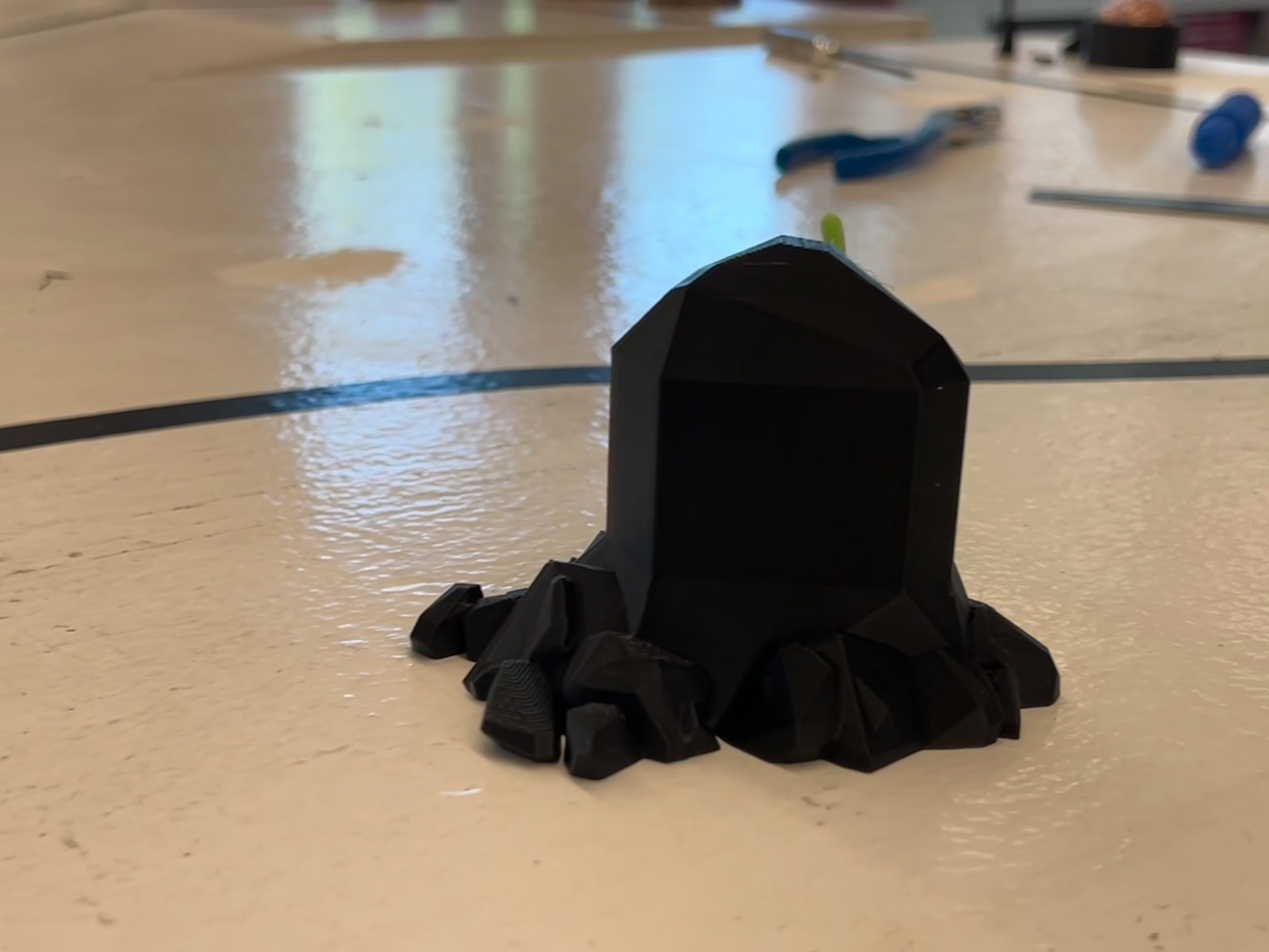teletubby: (821, 213, 846, 255)
